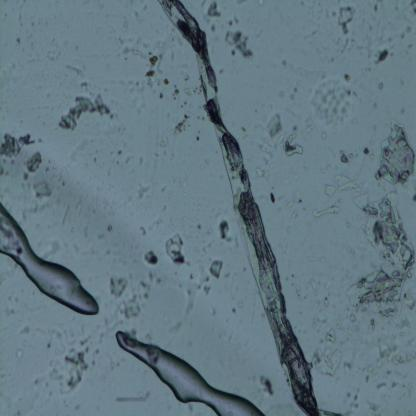Air bubble: (114, 329, 267, 415), (0, 203, 101, 316)
Background material: (346, 187, 414, 318), (374, 115, 416, 188), (51, 331, 95, 399), (310, 74, 354, 124), (56, 92, 110, 132), (366, 340, 416, 381), (115, 269, 156, 318), (0, 133, 45, 173), (147, 54, 178, 99), (321, 172, 364, 200), (310, 348, 345, 378), (162, 232, 190, 269), (224, 30, 256, 61), (335, 5, 358, 38), (171, 110, 197, 139), (115, 36, 146, 60), (113, 388, 153, 406), (280, 131, 305, 157), (105, 271, 129, 298), (26, 176, 52, 200), (312, 201, 341, 221), (21, 201, 53, 218), (265, 111, 284, 137), (349, 313, 364, 345), (206, 259, 226, 283), (216, 221, 235, 245), (43, 238, 63, 260), (69, 139, 89, 161), (257, 376, 275, 399), (373, 42, 390, 65), (196, 273, 212, 296), (363, 395, 381, 415), (142, 249, 160, 267), (256, 138, 276, 154), (180, 85, 204, 97), (398, 315, 414, 332), (207, 1, 222, 19), (333, 312, 348, 330), (347, 390, 361, 409), (312, 312, 326, 331), (341, 36, 355, 54), (134, 183, 148, 201), (306, 276, 318, 296), (18, 320, 33, 336), (356, 44, 371, 60), (338, 148, 352, 164), (316, 297, 330, 312), (158, 134, 172, 149), (399, 21, 410, 40), (69, 63, 85, 76), (294, 282, 303, 305), (366, 318, 379, 333), (324, 325, 336, 341), (116, 157, 129, 171), (229, 14, 242, 28), (288, 82, 298, 100), (188, 286, 196, 308), (294, 190, 305, 206), (62, 204, 70, 225), (132, 79, 144, 93), (137, 223, 148, 238), (256, 166, 270, 177), (43, 159, 54, 173), (44, 50, 58, 61), (303, 118, 313, 133), (202, 237, 212, 252), (16, 348, 26, 362), (5, 303, 16, 315), (342, 359, 354, 370), (374, 0, 384, 13), (118, 121, 128, 134), (286, 195, 295, 209), (7, 292, 19, 302), (305, 253, 318, 262), (405, 381, 414, 394), (408, 0, 416, 14), (215, 66, 226, 76), (205, 21, 216, 31), (123, 21, 131, 34), (263, 152, 271, 165), (304, 30, 314, 40), (78, 82, 90, 90), (376, 382, 388, 390), (137, 153, 145, 165), (278, 88, 286, 100), (22, 170, 30, 182), (115, 144, 122, 157), (108, 109, 118, 118), (269, 191, 275, 204), (14, 33, 21, 44), (89, 359, 98, 367), (155, 274, 162, 284), (363, 146, 370, 156), (93, 350, 101, 358), (399, 107, 407, 115), (105, 225, 114, 232), (378, 81, 384, 91), (162, 202, 168, 212), (398, 76, 404, 86), (187, 272, 194, 280), (392, 381, 400, 388), (370, 100, 377, 108), (211, 305, 216, 316), (161, 183, 166, 194), (92, 153, 98, 162), (328, 55, 334, 64), (321, 130, 327, 139), (208, 226, 213, 236), (293, 172, 298, 182), (155, 153, 162, 160), (231, 305, 237, 313), (100, 330, 104, 342), (269, 163, 275, 171), (292, 212, 298, 220), (199, 223, 204, 232), (177, 179, 182, 188), (411, 194, 416, 203), (238, 298, 243, 307), (180, 101, 186, 108), (33, 379, 40, 385), (274, 6, 280, 13), (195, 134, 200, 142), (242, 264, 247, 272), (406, 42, 412, 48), (280, 61, 286, 67), (60, 180, 66, 186), (242, 126, 246, 134), (186, 74, 190, 82), (48, 342, 53, 348), (292, 127, 298, 132), (179, 284, 183, 291), (290, 167, 293, 172)
Cotton: (158, 0, 336, 416)
